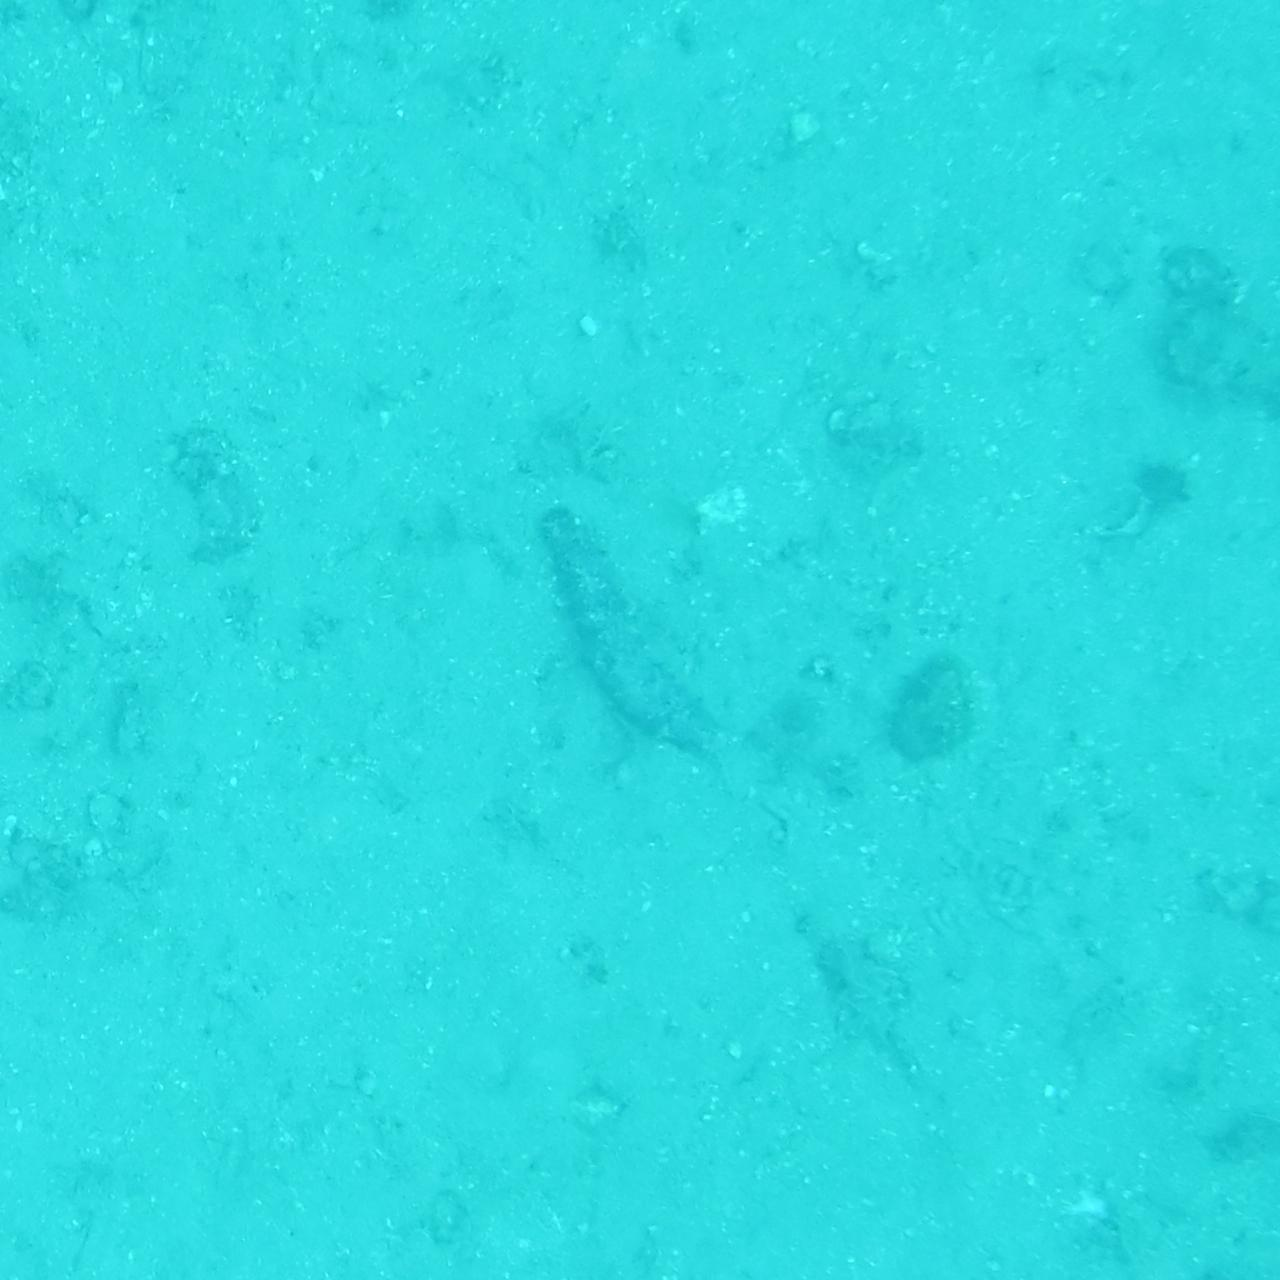Holothuria tubulosa: (538, 496, 742, 784)
